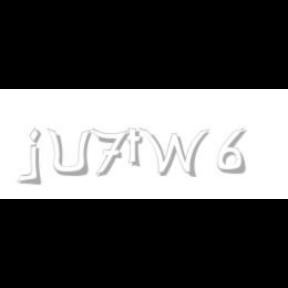6: (218, 128, 246, 176)
7: (92, 128, 130, 178)
U: (46, 128, 92, 178)
W: (138, 128, 210, 178)
j: (26, 128, 55, 186)
t: (125, 128, 147, 168)
